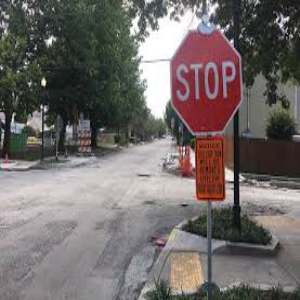STOP_SIGN: (169, 28, 243, 134)
